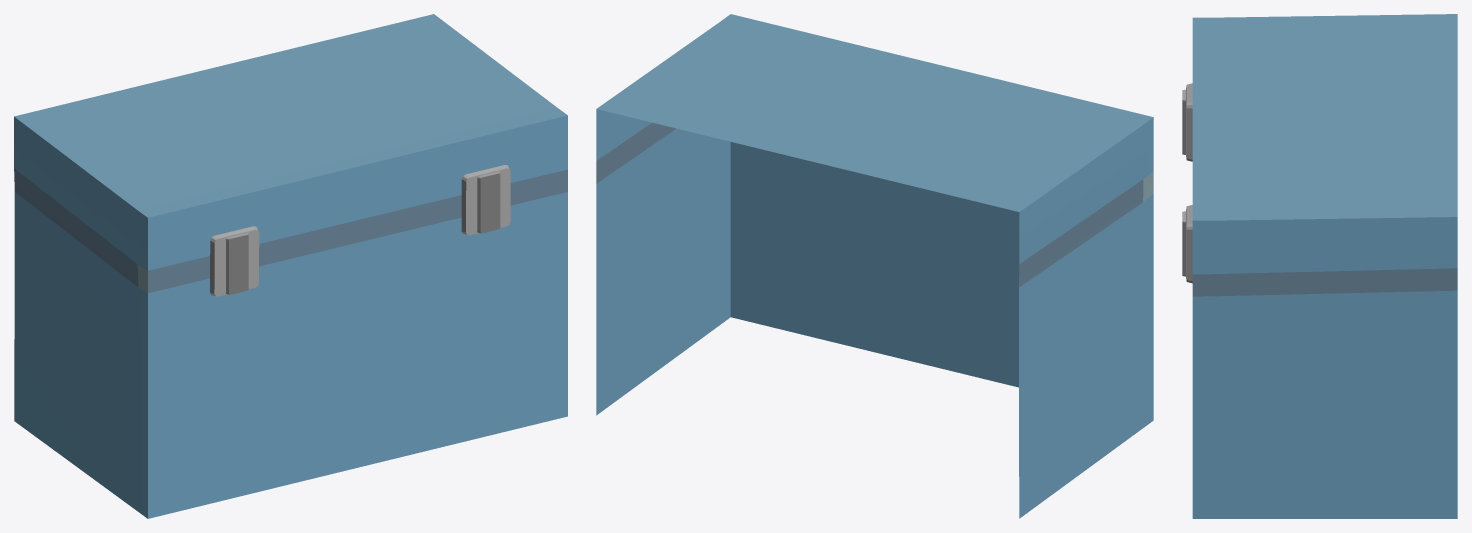
Rendered from MSH_QuestObject_table_01.fbx.
3 views of the same model, side by side, from view 1: azimuth 30°, elevation 25°; view 2: azimuth 150°, elevation 25°; view 3: azimuth 270°, elevation 25° (orthographic).
Visible parts, largest first — view 1: MSH_QuestObject_table_01; view 2: MSH_QuestObject_table_01; view 3: MSH_QuestObject_table_01.
Boxes of the visible parts, box(x1,y1,x2,y2) form: MSH_QuestObject_table_01: box(14, 14, 567, 518); MSH_QuestObject_table_01: box(596, 14, 1153, 518); MSH_QuestObject_table_01: box(1182, 14, 1457, 518).
Size of the model in its own units: 1.57 by 1.09 by 0.9005.
